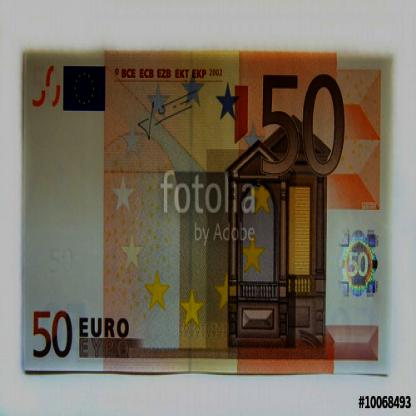euro_banknote: (23, 53, 394, 374)
